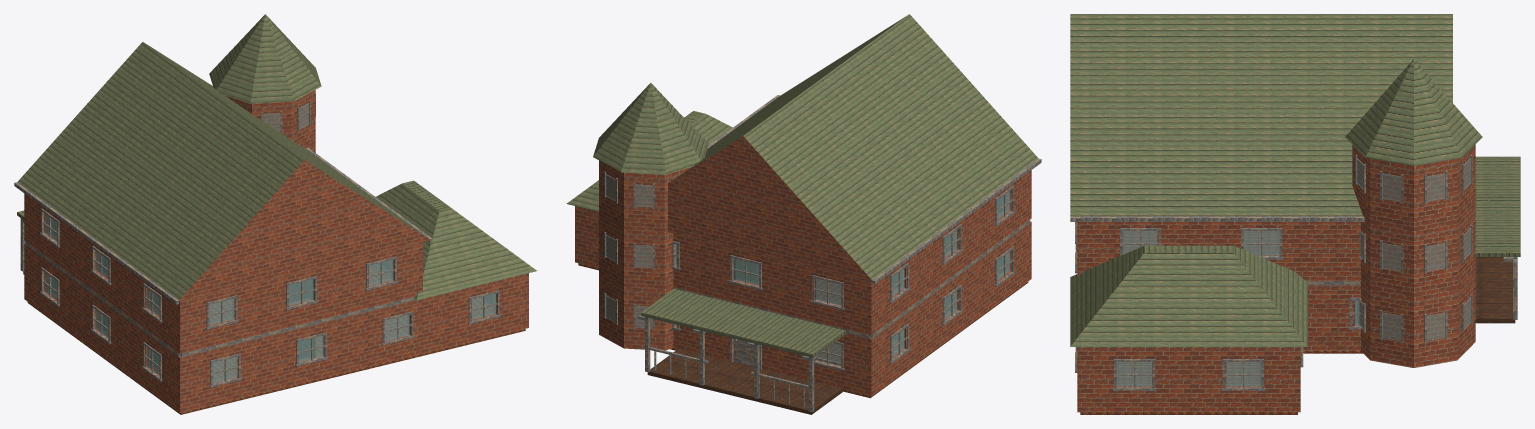
File: violet-bay-house.gltf
The picture shows the model from 3 angles, left to right: view 1: azimuth 30°, elevation 25°; view 2: azimuth 150°, elevation 25°; view 3: azimuth 270°, elevation 25°; orthographic projection. The views are drawn at different scales.
Visible parts, largest first — view 1: roof-L1-slate, exterior-L0-yellow-siding, exterior-L1-yellow-siding, roof-L1-yellow-siding, roof-L0-slate, tower-L0-slate, trim-L0-dark-wood, trim-L1-dark-wood, glazing-L0-glass, tower-L0-yellow-siding, floor-L0-floor, glazing-L1-glass (+3 smaller); view 2: roof-L1-slate, exterior-L1-yellow-siding, exterior-L0-yellow-siding, roof-L1-yellow-siding, tower-L0-yellow-siding, tower-L0-slate, porch-L0-slate, porch-L0-stone, trim-L1-dark-wood, porch-L0-dark-wood, tower-L0-glass, glazing-L1-glass (+8 smaller); view 3: roof-L1-slate, tower-L0-yellow-siding, roof-L0-slate, exterior-L0-yellow-siding, exterior-L1-yellow-siding, tower-L0-slate, porch-L0-slate, tower-L0-glass, porch-L0-stone, floor-L0-floor, tower-L0-dark-wood, glazing-L0-glass (+5 smaller).
Part boxes in pixels (x1,y1,x2,y2): roof-L1-slate: [17, 42, 427, 300]; exterior-L0-yellow-siding: [24, 243, 528, 412]; exterior-L1-yellow-siding: [24, 193, 422, 353]; roof-L1-yellow-siding: [179, 160, 430, 301]; roof-L0-slate: [372, 180, 536, 300]; tower-L0-slate: [209, 14, 321, 103]; trim-L0-dark-wood: [40, 267, 500, 387]; trim-L1-dark-wood: [40, 208, 397, 329]; glazing-L0-glass: [45, 273, 495, 382]; tower-L0-yellow-siding: [226, 90, 315, 152]; floor-L0-floor: [27, 294, 525, 414]; glazing-L1-glass: [45, 214, 393, 324]; roof-L1-slate: [672, 14, 1038, 280]; exterior-L1-yellow-siding: [673, 170, 1031, 335]; exterior-L0-yellow-siding: [575, 206, 1031, 396]; roof-L1-yellow-siding: [668, 136, 872, 281]; tower-L0-yellow-siding: [599, 160, 691, 350]; tower-L0-slate: [593, 83, 708, 174]; porch-L0-slate: [641, 288, 845, 357]; porch-L0-stone: [647, 349, 842, 414]; trim-L1-dark-wood: [671, 185, 1015, 310]; porch-L0-dark-wood: [638, 315, 841, 412]; tower-L0-glass: [605, 174, 676, 328]; glazing-L1-glass: [675, 191, 1009, 305]; roof-L1-slate: [1070, 14, 1452, 216]; tower-L0-yellow-siding: [1352, 144, 1475, 367]; roof-L0-slate: [1070, 245, 1307, 346]; exterior-L0-yellow-siding: [1077, 285, 1360, 412]; exterior-L1-yellow-siding: [1077, 222, 1360, 281]; tower-L0-slate: [1345, 59, 1482, 165]; porch-L0-slate: [1475, 156, 1520, 256]; tower-L0-glass: [1356, 158, 1471, 340]; porch-L0-stone: [1475, 257, 1515, 323]; floor-L0-floor: [1080, 351, 1362, 414]; tower-L0-dark-wood: [1355, 155, 1472, 343]; glazing-L0-glass: [1116, 300, 1359, 386].
Bounding box in the file's own units: 13.61 × 8.75 × 12.43.
11 materials, 10 textured.
